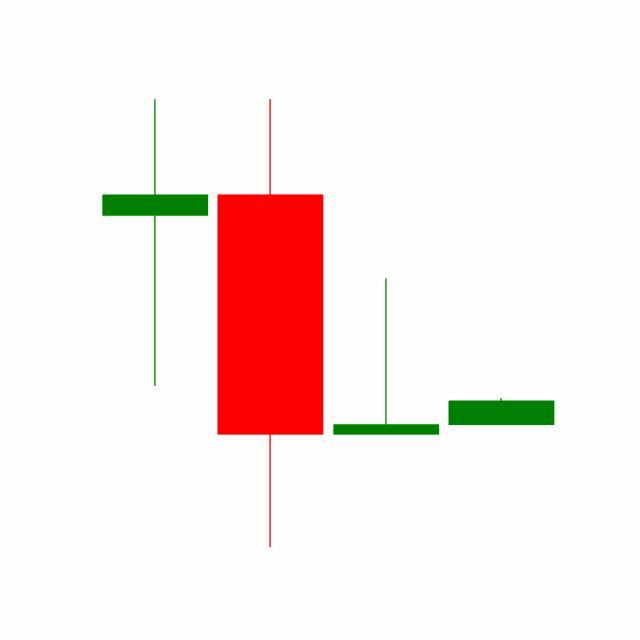Gravestone Doji: (329, 278, 445, 438)
